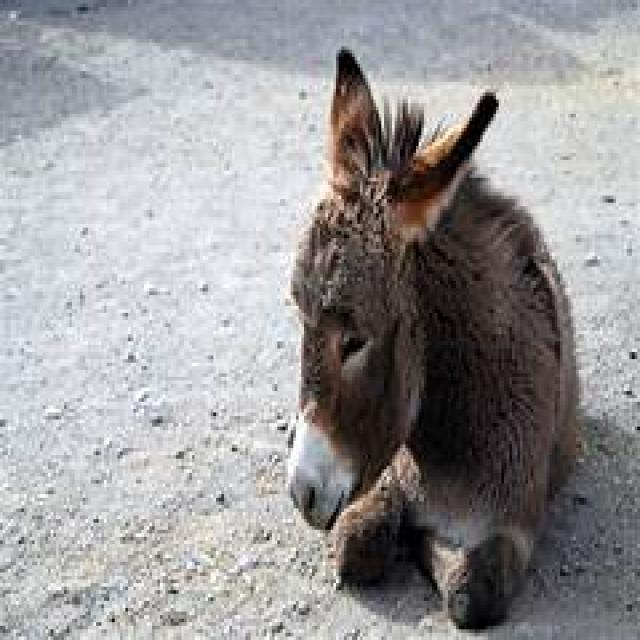Donkey: (289, 39, 594, 635)
